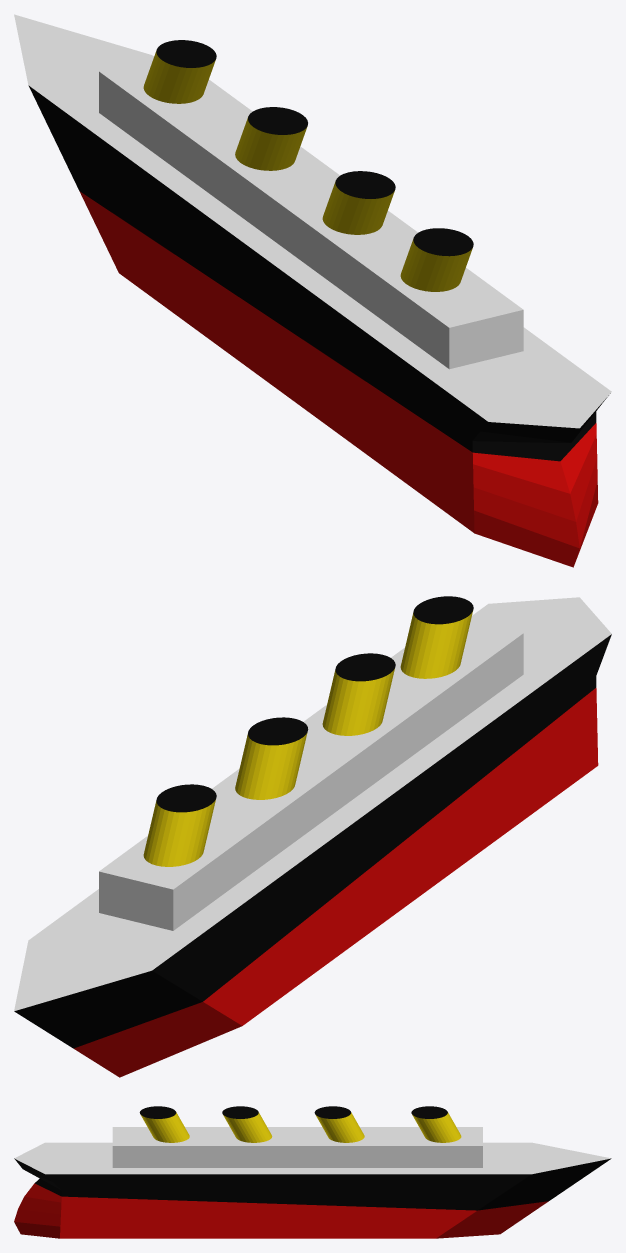
The model's file is Titanic.glb.
The picture shows the model from 3 angles, top to bottom: view 1: azimuth 30°, elevation 25°; view 2: azimuth 150°, elevation 25°; view 3: azimuth 270°, elevation 25°; orthographic projection. The views are drawn at different scales.
Visible parts, largest first — view 1: Cube; view 2: Cube; view 3: Cube.
Boxes of the visible parts, bbox=[...] form: Cube: bbox=[14, 14, 611, 567]; Cube: bbox=[14, 596, 611, 1077]; Cube: bbox=[14, 1106, 611, 1238].
Bounding box in the file's own units: 1.65 × 2.94 × 13.08.
